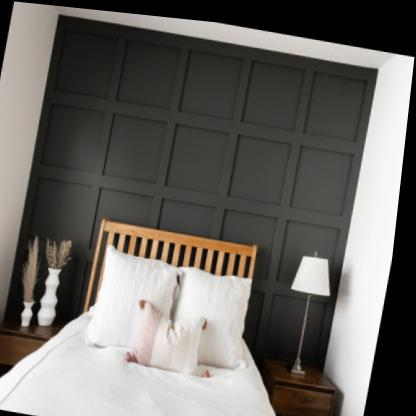Bed: (0, 203, 338, 416)
Nightstand: (269, 352, 351, 416)
Wall Panel: (8, 6, 382, 360)
